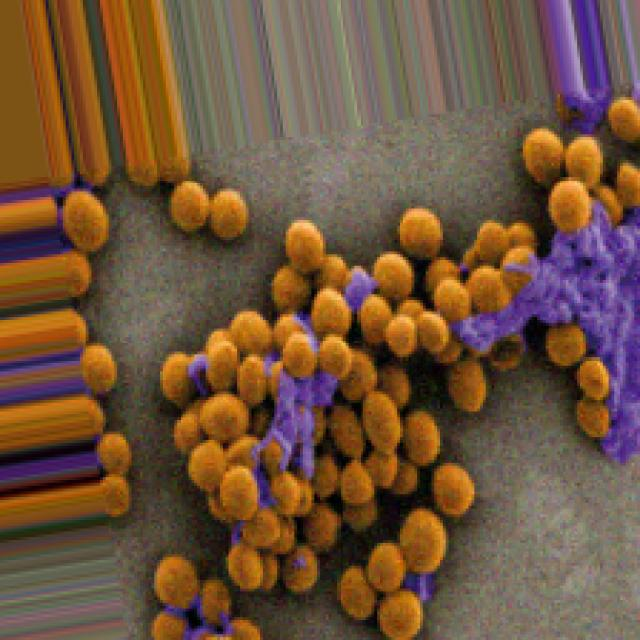Spherical_bacteria: (109, 183, 580, 640)
